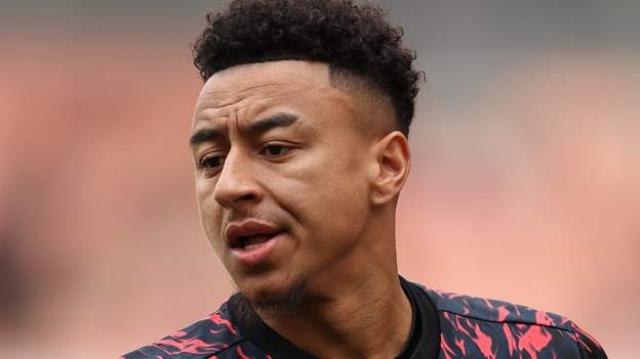forehead: (216, 91, 244, 118), (250, 80, 284, 92)
frown_line: (226, 117, 240, 133)
gummy_smile: (258, 182, 294, 218)
